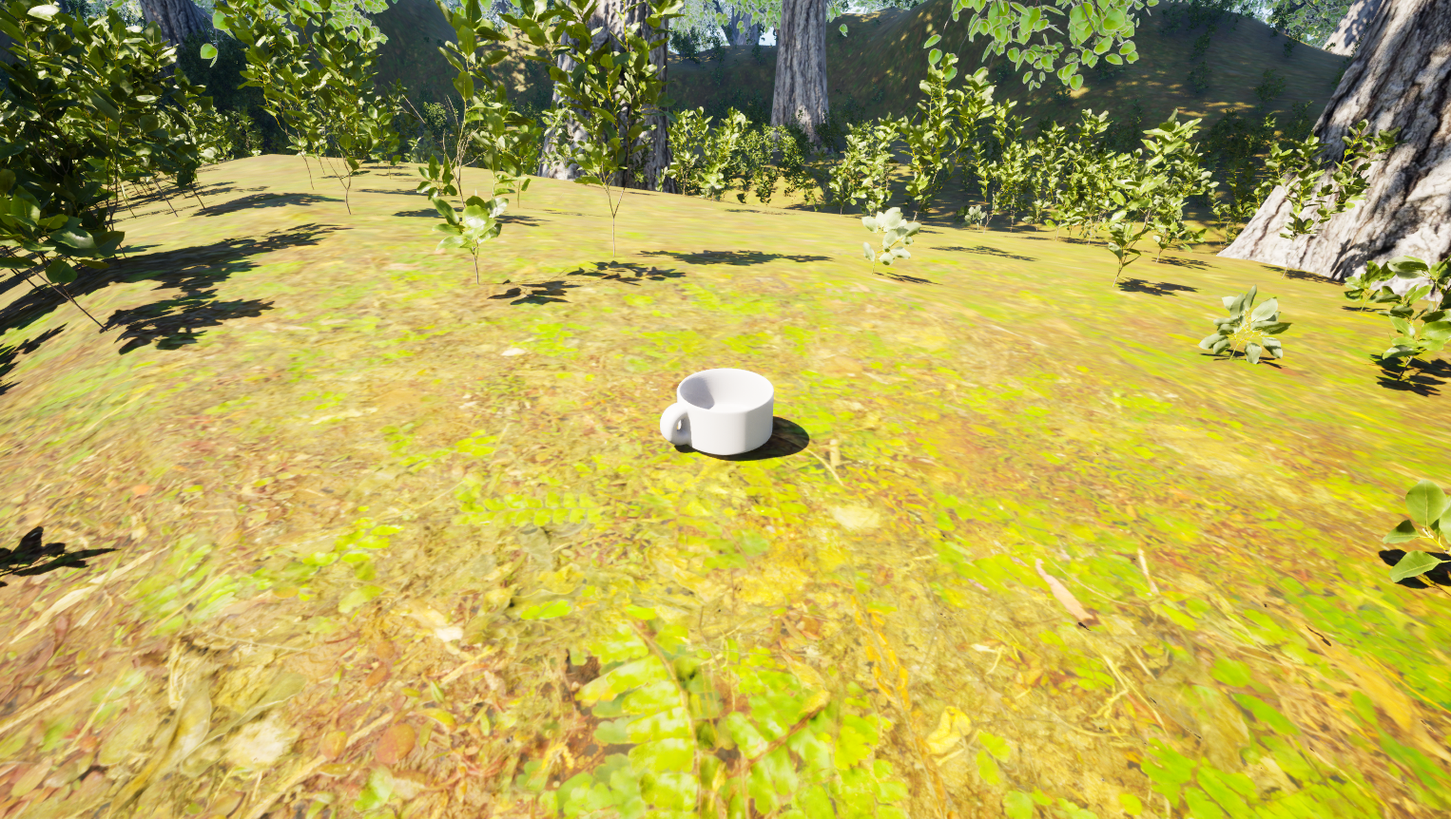Teacup: (657, 368, 777, 456)
